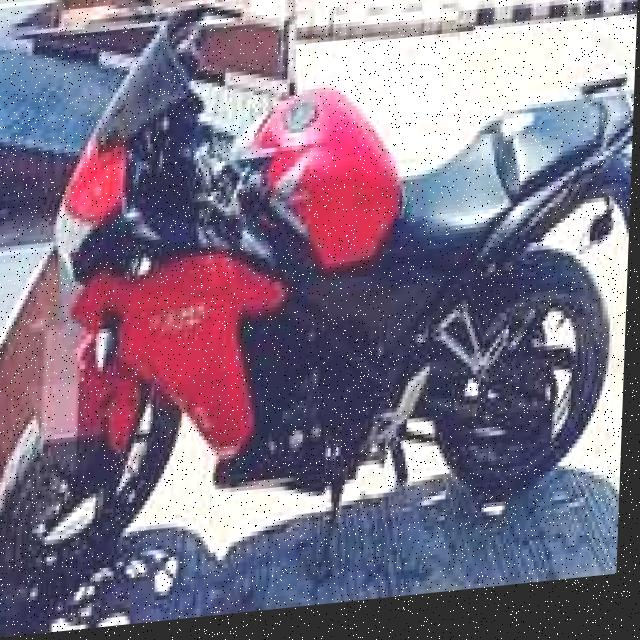bike: (8, 0, 640, 625)
